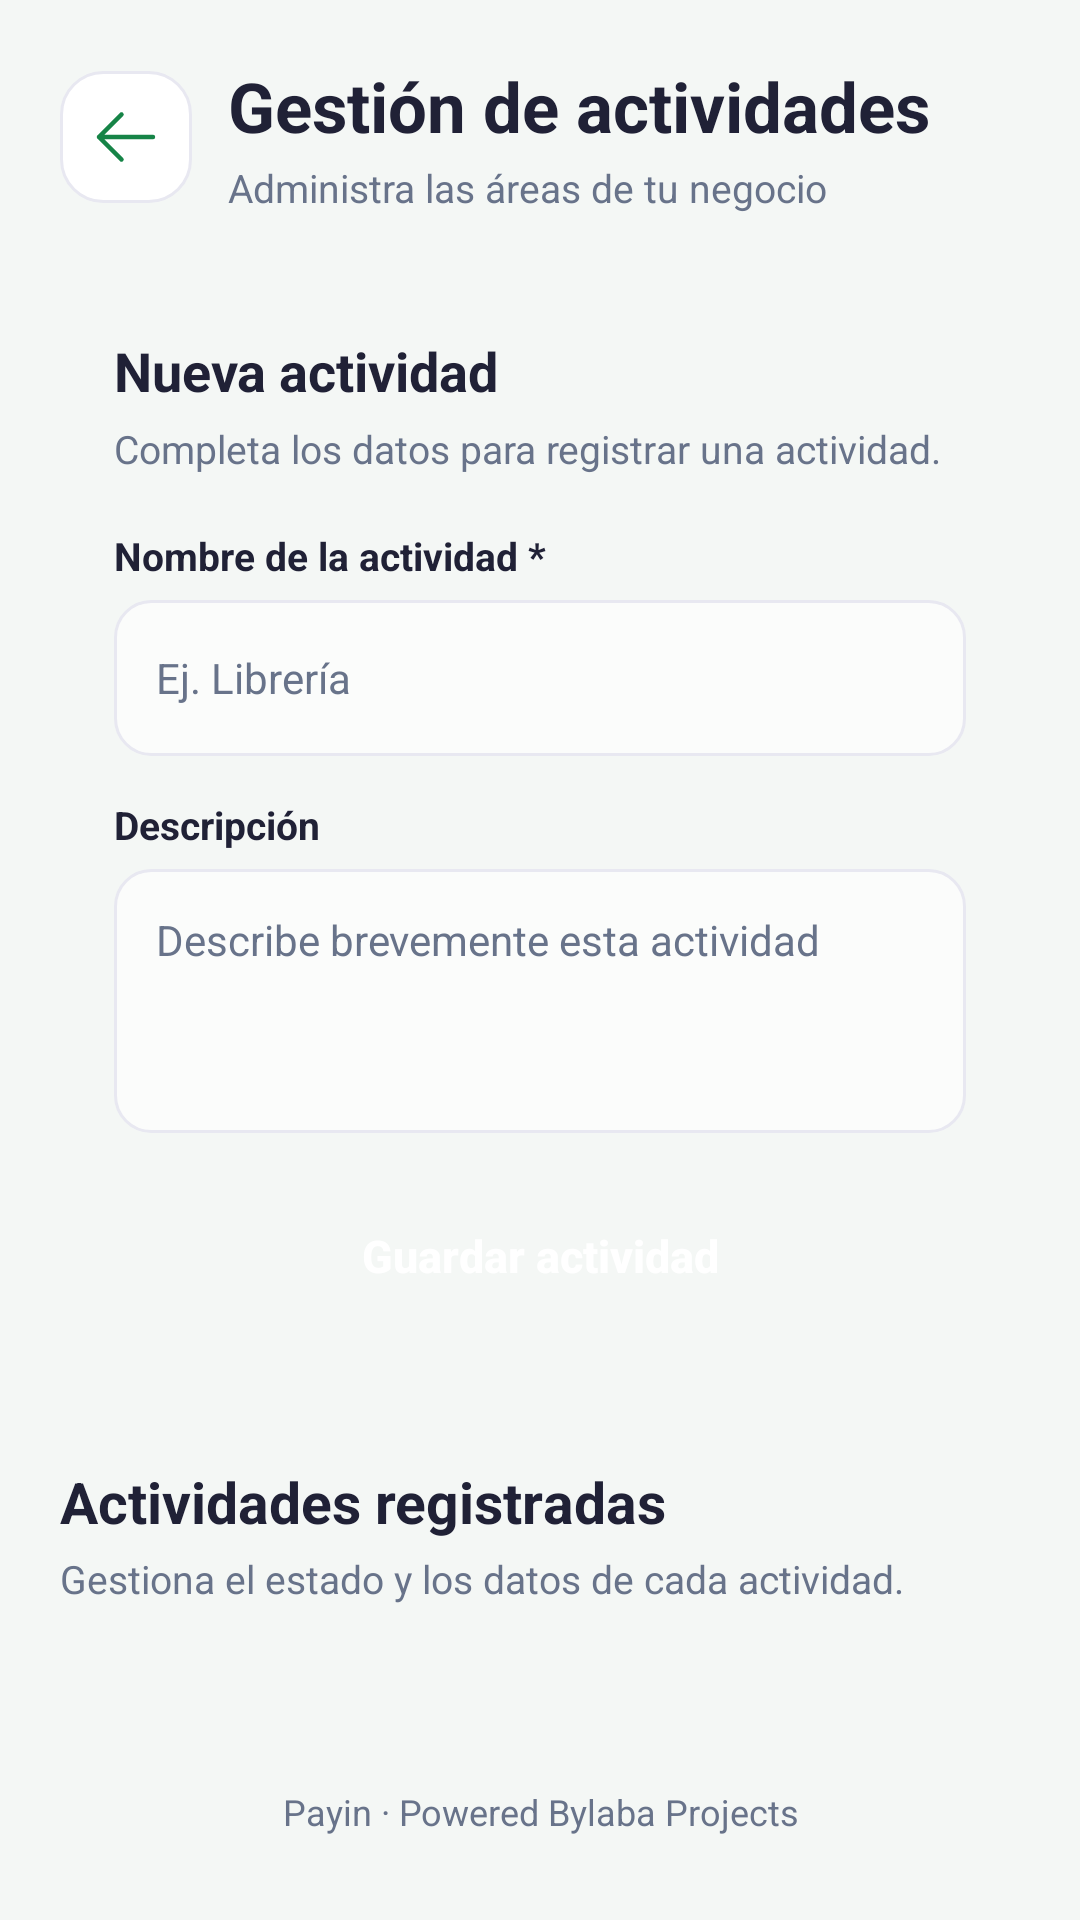

Point at icon controls on the screen. Image size 1080w x 1920h, points as point (x, y).
Volver: point (126, 137)
